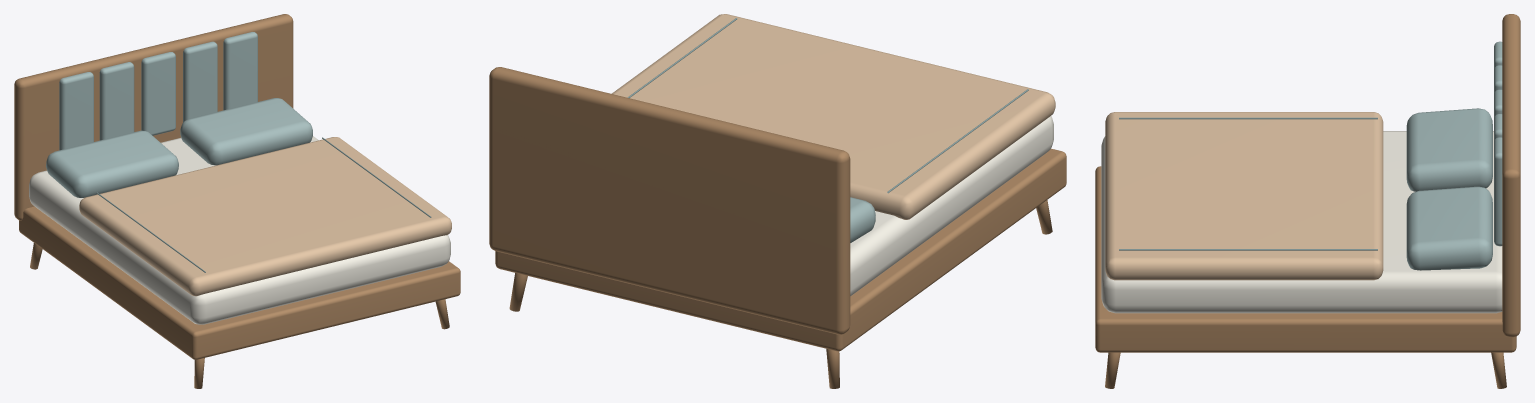
The model's file is atelier-king-bed.glb.
3 views of the same model, side by side, from view 1: azimuth 30°, elevation 25°; view 2: azimuth 150°, elevation 25°; view 3: azimuth 270°, elevation 25° (orthographic). The views are drawn at different scales.
Visible parts, largest first — view 1: bedding.003, legs.026, fabric.029, ceramic.003, seams.028; view 2: legs.026, bedding.003, ceramic.003, fabric.029, seams.028; view 3: bedding.003, legs.026, ceramic.003, fabric.029, seams.028.
Boxes of the visible parts, left/top/right/bottom form: bedding.003: left=79, top=137, right=451, bottom=296; legs.026: left=14, top=14, right=460, bottom=388; fabric.029: left=46, top=32, right=312, bottom=197; ceramic.003: left=29, top=136, right=450, bottom=324; seams.028: left=96, top=137, right=431, bottom=272; legs.026: left=489, top=67, right=1066, bottom=388; bedding.003: left=611, top=14, right=1055, bottom=219; ceramic.003: left=850, top=116, right=1053, bottom=296; fabric.029: left=850, top=197, right=875, bottom=242; seams.028: left=627, top=18, right=1028, bottom=193; bedding.003: left=1105, top=112, right=1383, bottom=280; legs.026: left=1095, top=14, right=1520, bottom=388; ceramic.003: left=1101, top=131, right=1502, bottom=313; fabric.029: left=1406, top=41, right=1502, bottom=270; seams.028: left=1119, top=117, right=1377, bottom=250.
Size of the model in its own units: 1.85 by 1.2 by 2.07.
